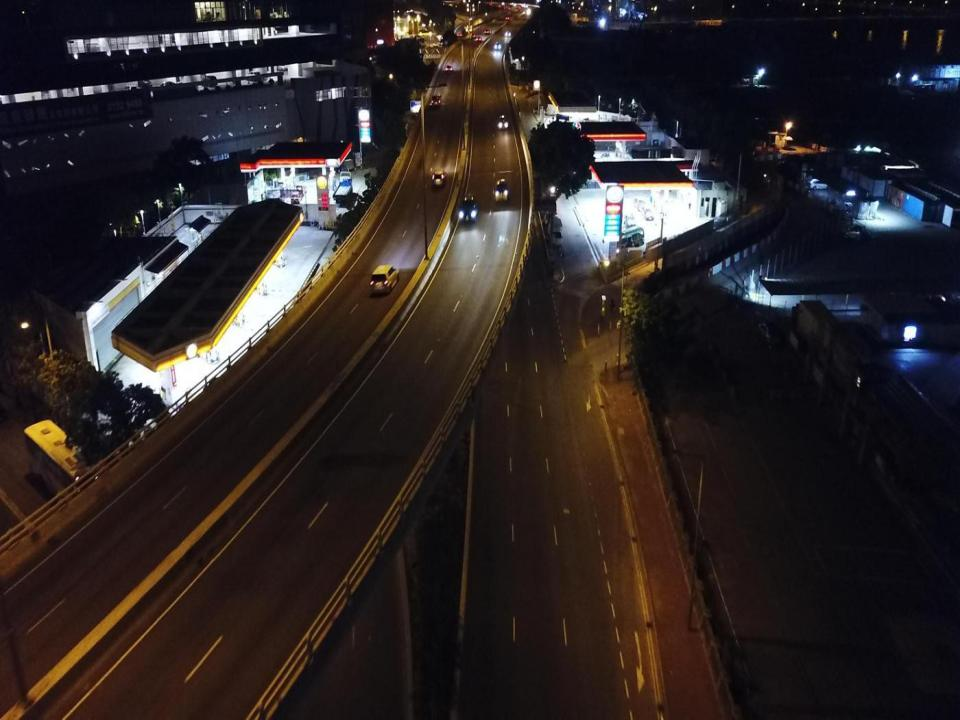bus: (21, 418, 100, 512), (606, 226, 645, 255)
car: (370, 265, 399, 297), (842, 224, 869, 242), (495, 177, 507, 204), (432, 166, 445, 189), (808, 178, 830, 191), (428, 93, 441, 111), (496, 112, 508, 131), (634, 197, 647, 212), (624, 213, 636, 229), (552, 230, 563, 247), (641, 206, 654, 220), (291, 191, 302, 205), (444, 64, 454, 72), (504, 30, 512, 38), (494, 41, 501, 50), (476, 36, 483, 42), (484, 28, 490, 34), (472, 33, 477, 37), (457, 33, 462, 36)
truck: (332, 171, 352, 204), (548, 214, 562, 236)
van: (459, 193, 476, 226)
